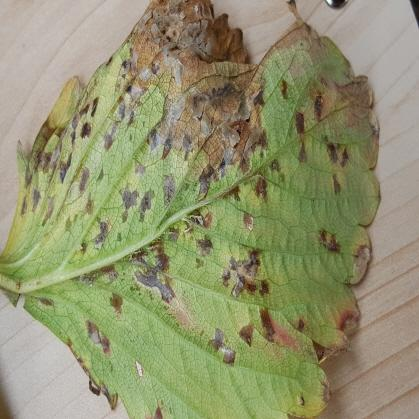Angular Leafspot: (0, 0, 381, 418)
